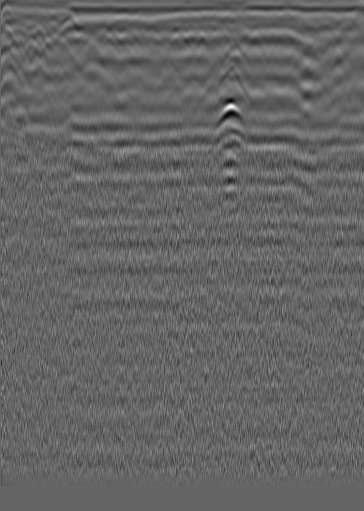가스: (206, 100, 252, 141)
상수: (300, 22, 320, 42)
오수: (30, 23, 50, 43)
우수: (165, 26, 185, 46)
